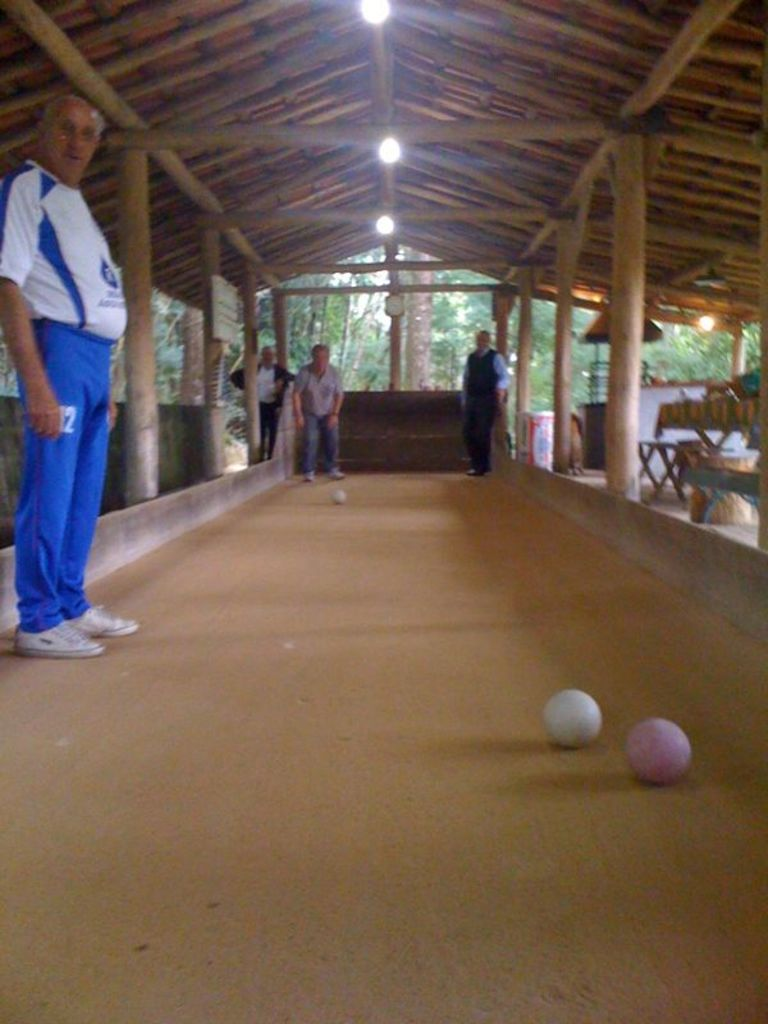Person: (230, 345, 289, 458)
